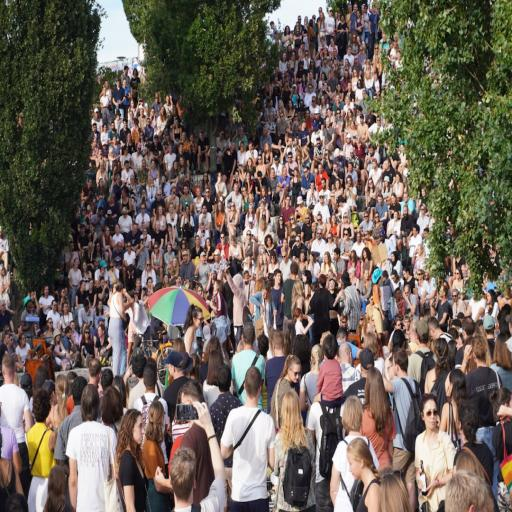face: (422, 400, 438, 430), (133, 416, 144, 444), (348, 455, 361, 478), (288, 365, 300, 383)
